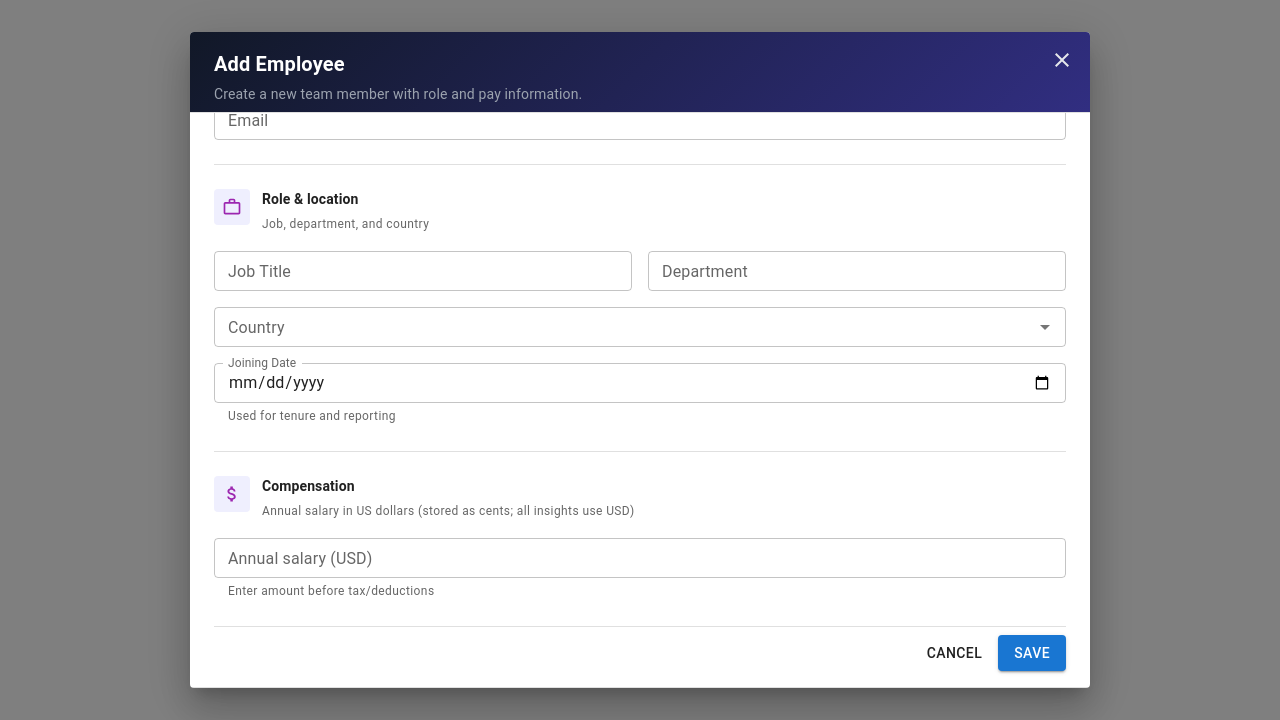
Test case: EmployeeFormDialog — create mode › shows validation error for empty required fields on submit
(page scrolled)
Click the button "Save": (1032, 653) [998,635,1066,671]
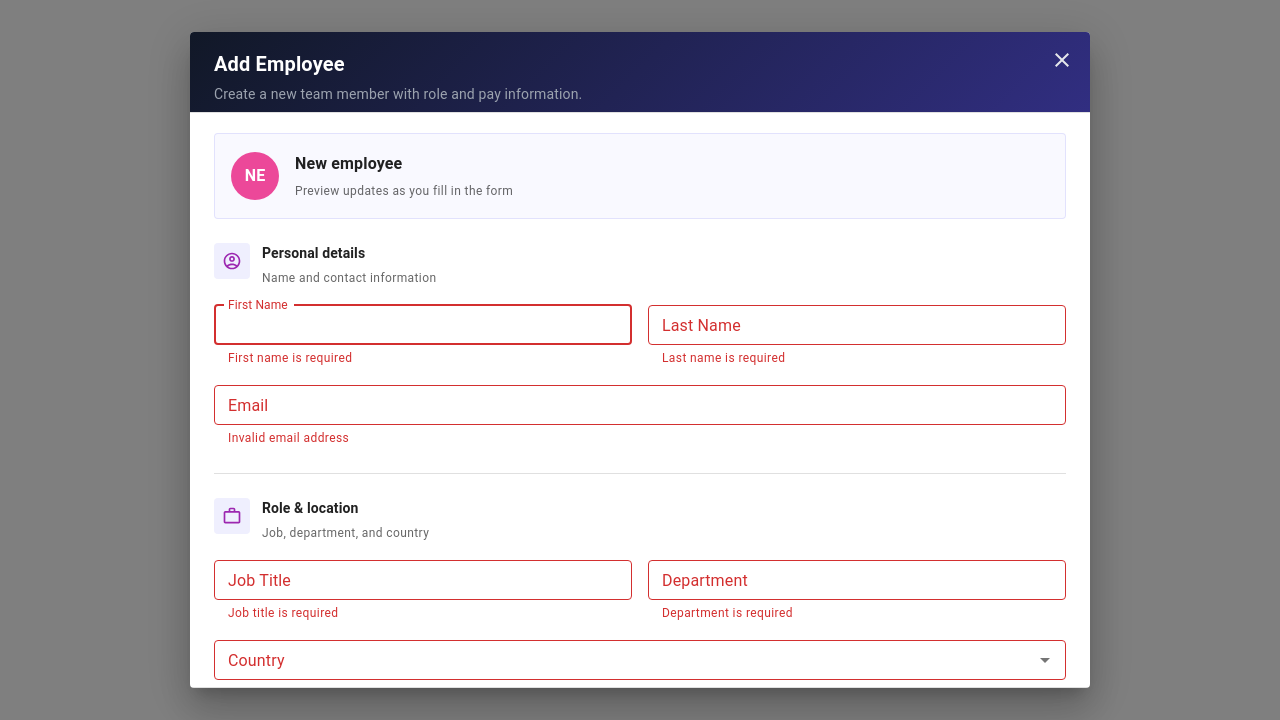
Check: the text "First name is required" is shown, box [228,351,352,365]
